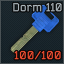Dorm room 110 key: (0, 0, 64, 64)
